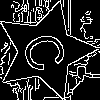C: (20, 25, 78, 76)
